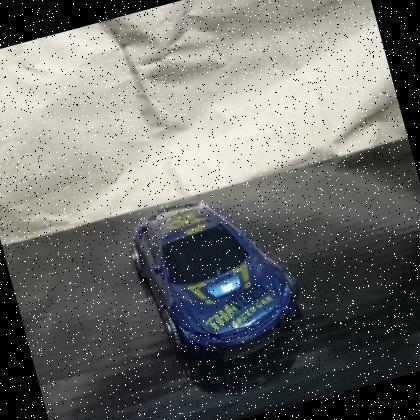Car: (130, 202, 301, 362)
